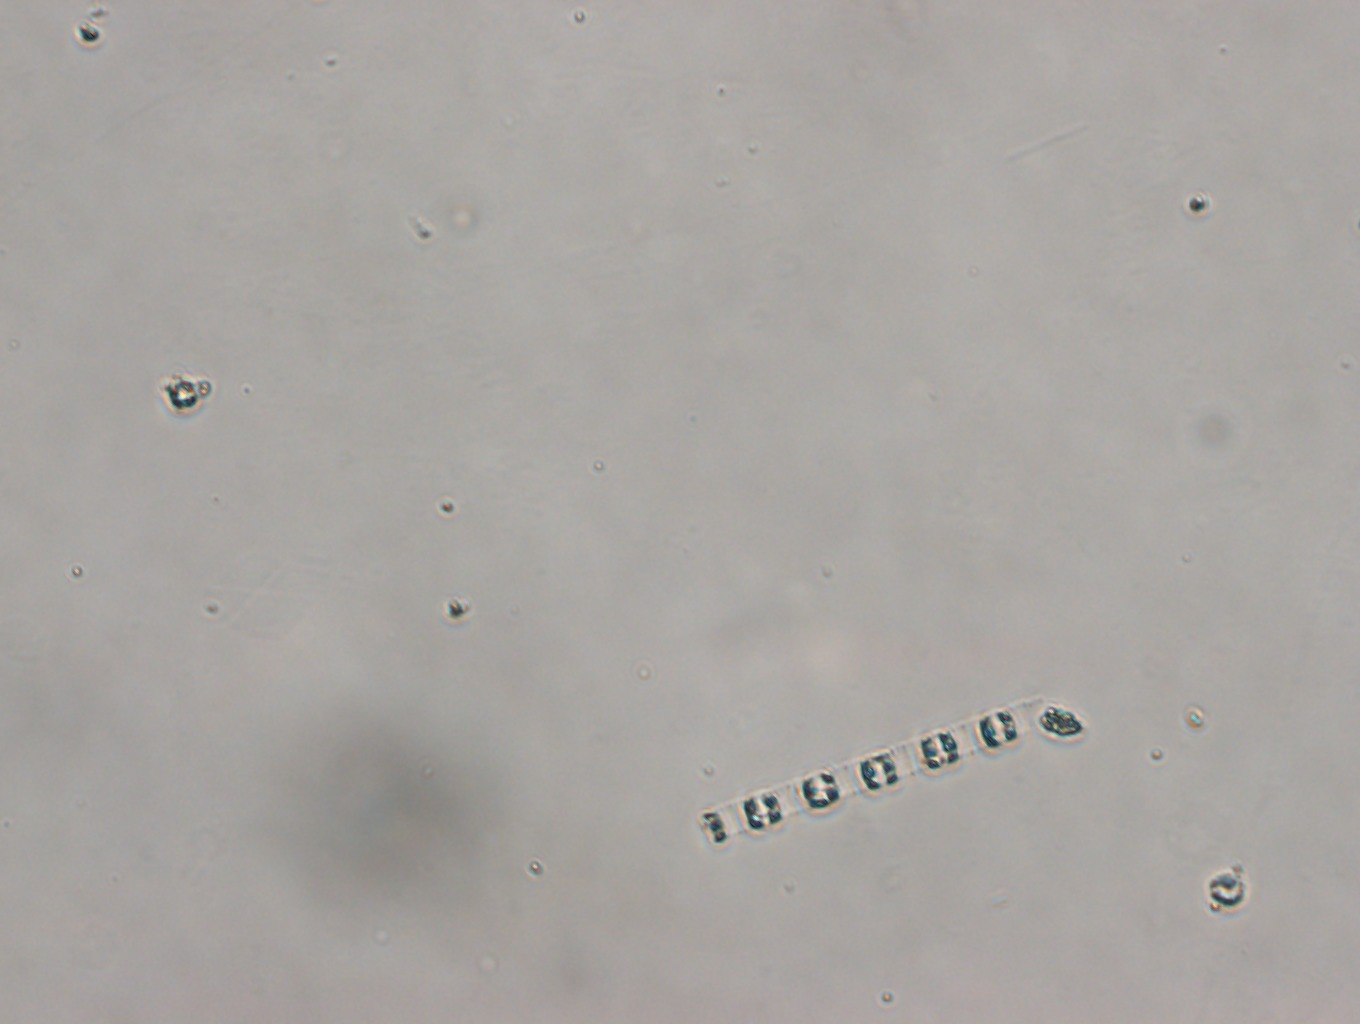skeletonema: (687, 693, 1037, 850)
